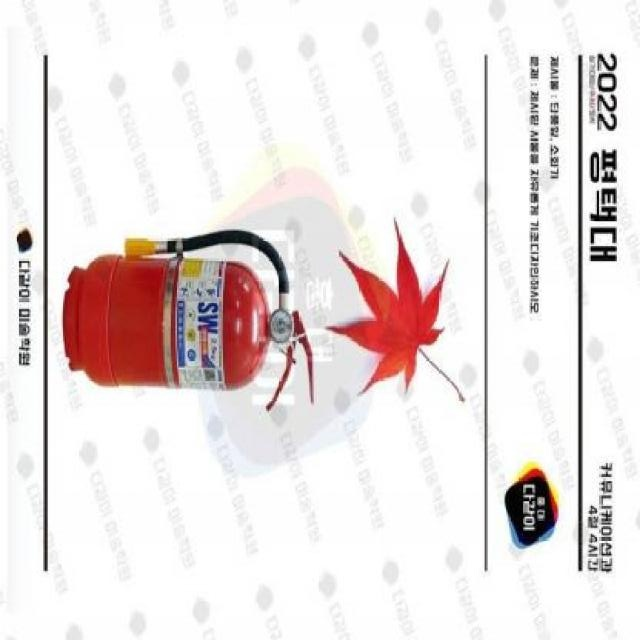fire extinguisher: (61, 230, 314, 412)
